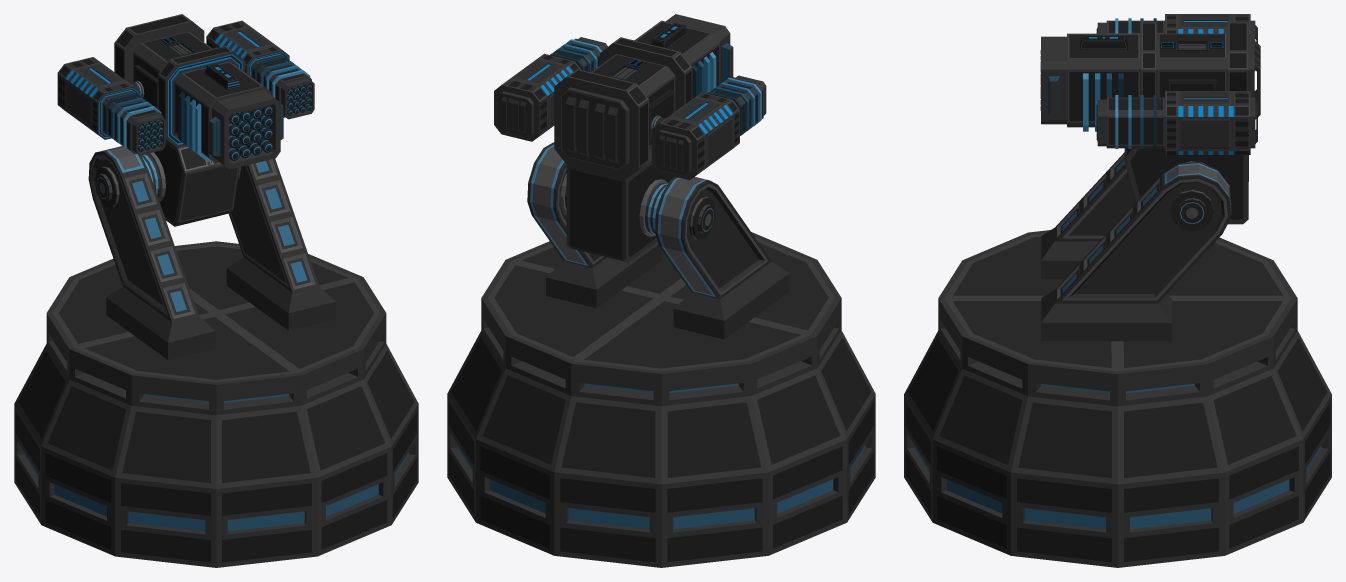
The picture shows the model from 3 angles, left to right: view 1: azimuth 30°, elevation 25°; view 2: azimuth 150°, elevation 25°; view 3: azimuth 270°, elevation 25°; orthographic projection. The views are drawn at different scales.
Parts seen in each view (by area): view 1: PTR003, NTR003, TR004, RTg001, RTg; view 2: PTR003, TR004, NTR003, RTg001, RTg; view 3: PTR003, NTR003, TR004, RTg, RTg001.
Boxes of the visible parts, box(x1,y1,x2,y2) form: PTR003: box(14, 241, 418, 567); NTR003: box(88, 146, 336, 360); TR004: box(114, 14, 283, 226); RTg001: box(57, 57, 165, 155); RTg: box(206, 20, 314, 119); PTR003: box(447, 232, 875, 567); TR004: box(554, 14, 733, 262); NTR003: box(527, 142, 789, 339); RTg001: box(651, 75, 766, 180); RTg: box(494, 37, 607, 141); PTR003: box(904, 230, 1331, 567); NTR003: box(1041, 152, 1231, 341); TR004: box(1040, 22, 1260, 224); RTg: box(1096, 91, 1257, 154); RTg001: box(1096, 14, 1257, 70).
Bounding box in the file's own units: 782 × 888 × 782.
